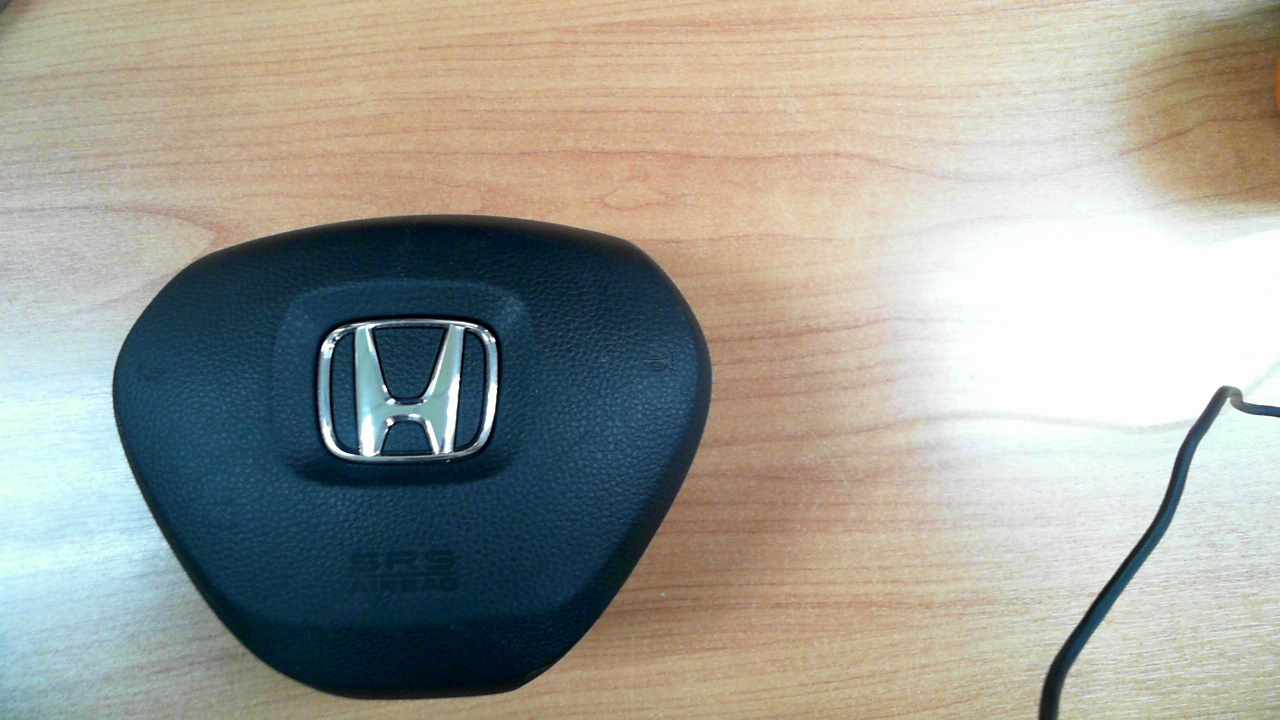Airbag: (112, 213, 712, 701)
Honda: (317, 318, 499, 462)
